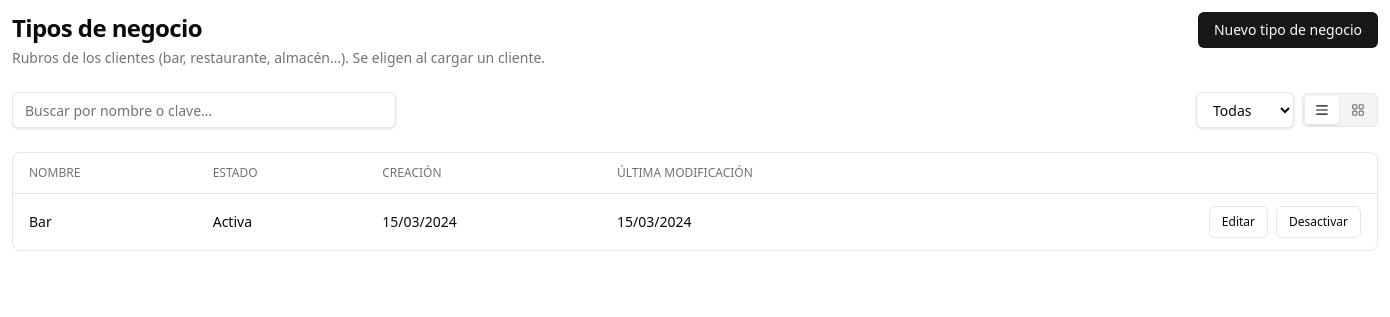
Test: BusinessTypesScreen › shows neither the key nor the order, in the table or the form
Check: the text "Bar" is shown, box [13,194,197,250]
Check: the column heading "Orden" is not shown
Click the button "Editar" at (1238, 222), box [1209,206,1268,238]
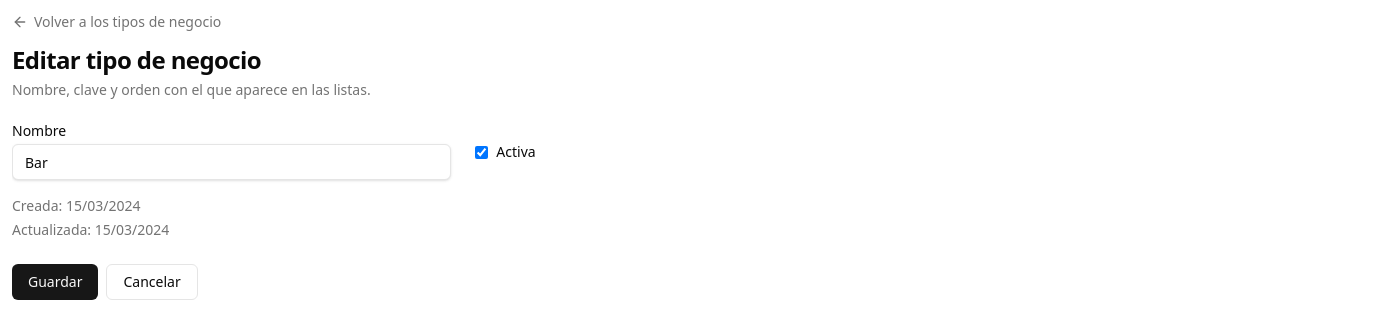
Check: the field labelled "Nombre" holds "Bar", box [12,144,451,180]
